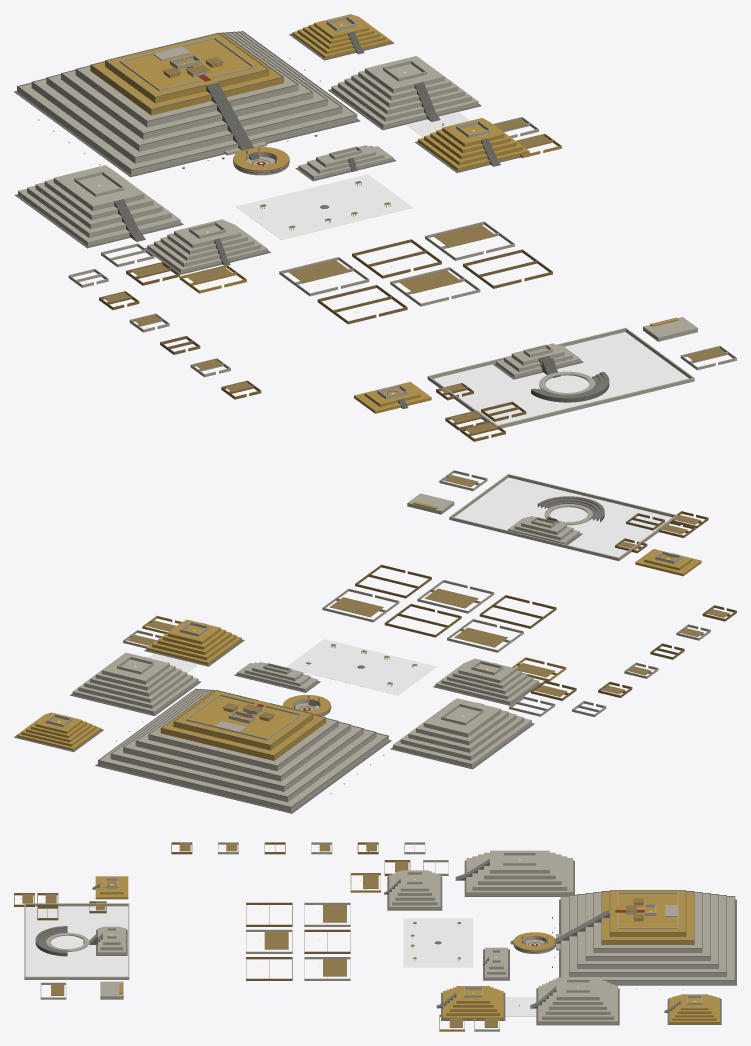
Rendered from caral_city_lod0.glb.
The picture shows the model from 3 angles, top to bottom: view 1: azimuth 30°, elevation 25°; view 2: azimuth 150°, elevation 25°; view 3: azimuth 270°, elevation 25°; orthographic projection. The views are drawn at different scales.
Parts seen in each view (by area): view 1: GEO-Caral_City_PlasterWhite, GEO-Caral_City_PlasterYellow, GEO-Caral_City_Plaza, GEO-Caral_City_Stone, GEO-Caral_City_Thatch, GEO-Caral_City_Quincha; view 2: GEO-Caral_City_PlasterWhite, GEO-Caral_City_PlasterYellow, GEO-Caral_City_Plaza, GEO-Caral_City_Stone, GEO-Caral_City_Thatch, GEO-Caral_City_Quincha; view 3: GEO-Caral_City_PlasterWhite, GEO-Caral_City_Plaza, GEO-Caral_City_PlasterYellow, GEO-Caral_City_Stone, GEO-Caral_City_Thatch, GEO-Caral_City_Quincha.
Part boxes in pixels (left/top/right/bottom): GEO-Caral_City_PlasterWhite: left=17, top=16, right=736, bottom=428; GEO-Caral_City_PlasterYellow: left=90, top=14, right=678, bottom=413; GEO-Caral_City_Plaza: left=236, top=111, right=688, bottom=425; GEO-Caral_City_Stone: left=14, top=31, right=609, bottom=408; GEO-Caral_City_Thatch: left=103, top=57, right=725, bottom=434; GEO-Caral_City_Quincha: left=99, top=239, right=552, bottom=441; GEO-Caral_City_PlasterWhite: left=46, top=470, right=710, bottom=811; GEO-Caral_City_PlasterYellow: left=16, top=501, right=701, bottom=760; GEO-Caral_City_Plaza: left=148, top=477, right=672, bottom=695; GEO-Caral_City_Stone: left=14, top=496, right=679, bottom=813; GEO-Caral_City_Thatch: left=127, top=475, right=729, bottom=718; GEO-Caral_City_Quincha: left=355, top=511, right=736, bottom=700; GEO-Caral_City_PlasterWhite: left=24, top=842, right=735, bottom=1031; GEO-Caral_City_Plaza: left=25, top=906, right=536, bottom=1016; GEO-Caral_City_PlasterYellow: left=95, top=873, right=719, bottom=1031; GEO-Caral_City_Stone: left=35, top=858, right=736, bottom=1025; GEO-Caral_City_Thatch: left=22, top=843, right=643, bottom=1027; GEO-Caral_City_Quincha: left=14, top=842, right=410, bottom=980.
Bounding box in the file's own units: 30.4 × 2.81 × 49.63.
